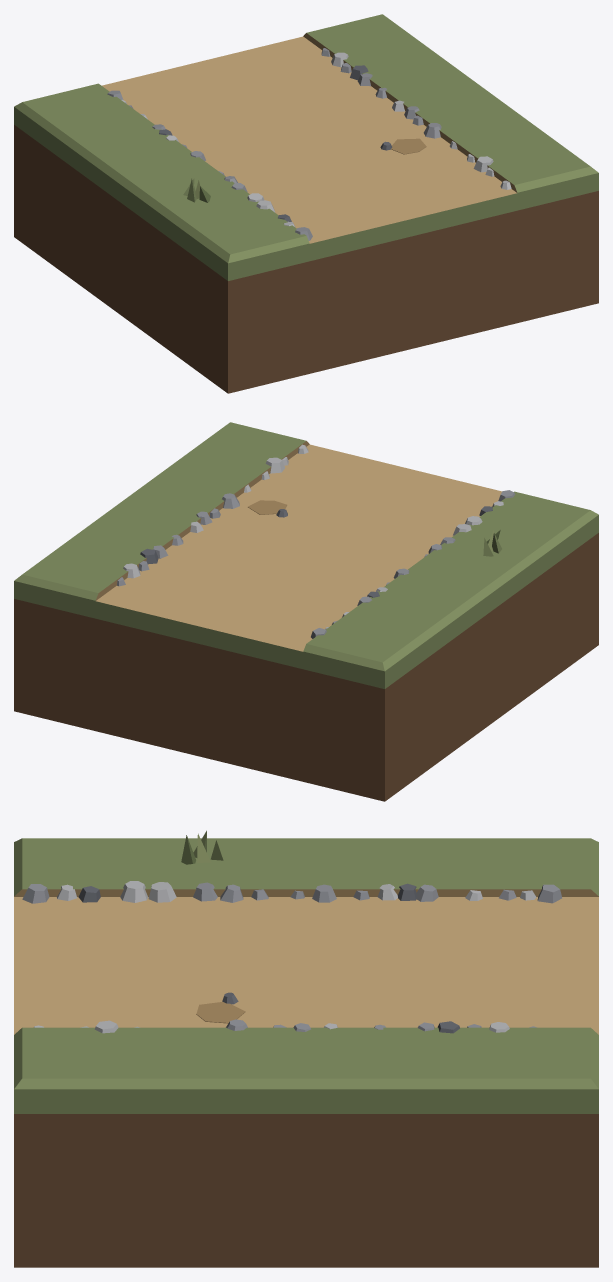
File: Road Straight.fbx
3 views of the same model, one above another, from view 1: azimuth 30°, elevation 25°; view 2: azimuth 150°, elevation 25°; view 3: azimuth 270°, elevation 25° (orthographic). The views are drawn at different scales.
Visible parts, largest first — view 1: Road Straight; view 2: Road Straight; view 3: Road Straight.
Part boxes in pixels (bbox=[...]): Road Straight: bbox=[14, 14, 598, 393]; Road Straight: bbox=[14, 422, 598, 801]; Road Straight: bbox=[14, 830, 598, 1267].
Bounding box in the file's own units: 1 × 0.4015 × 1.
